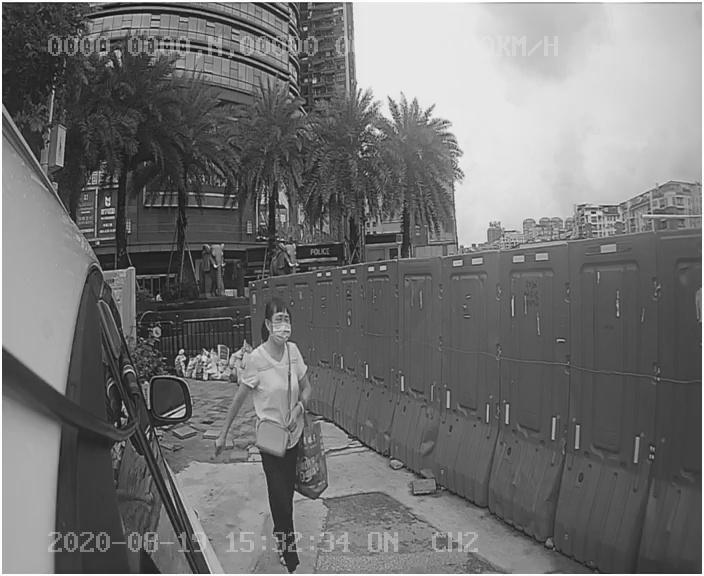person: (209, 295, 346, 530)
